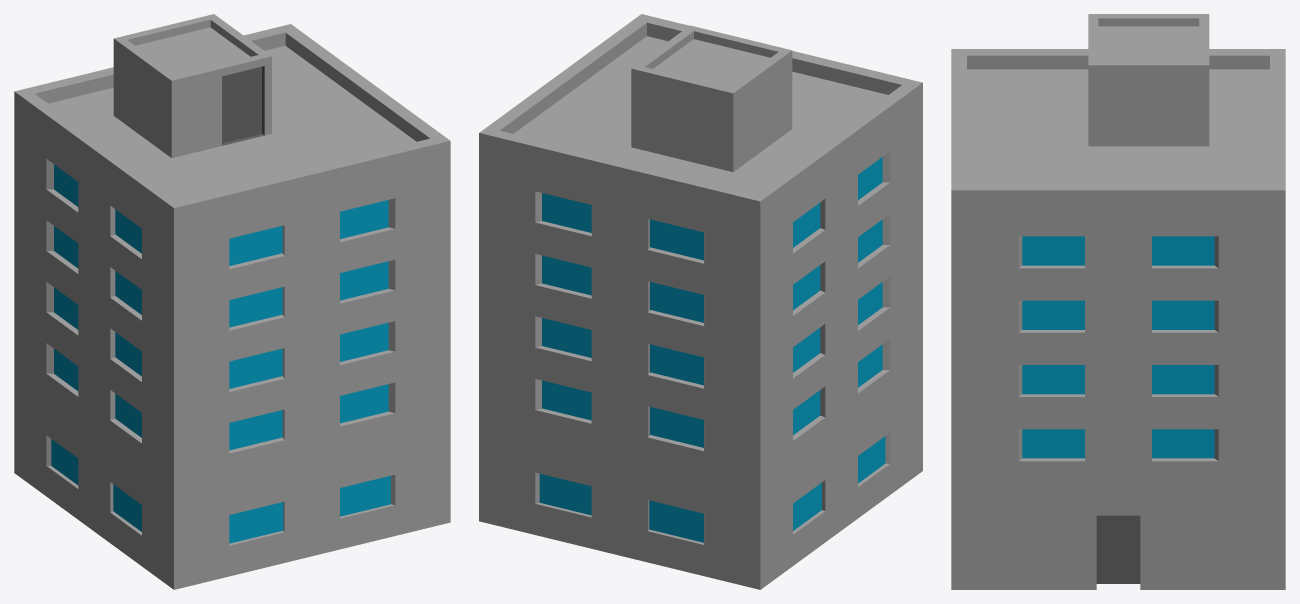
File: MediumHouse.fbx
3 views of the same model, side by side, from view 1: azimuth 30°, elevation 25°; view 2: azimuth 150°, elevation 25°; view 3: azimuth 270°, elevation 25° (orthographic). The views are drawn at different scales.
Visible parts, largest first — view 1: Cube.001; view 2: Cube.001; view 3: Cube.001.
Boxes of the visible parts, box(x1,y1,x2,y2) form: Cube.001: box(14, 14, 450, 589); Cube.001: box(479, 14, 922, 589); Cube.001: box(951, 14, 1285, 589).
Size of the model in its own units: 345 by 532 by 345.
